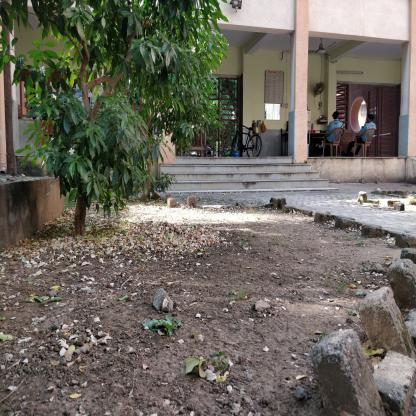stairs: (177, 154, 294, 197)
